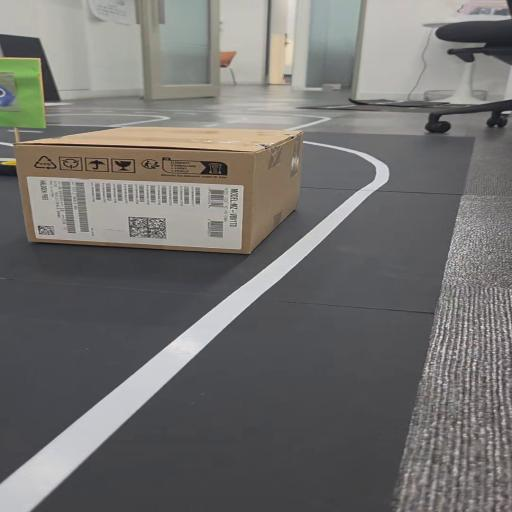Box: (14, 126, 313, 258)
